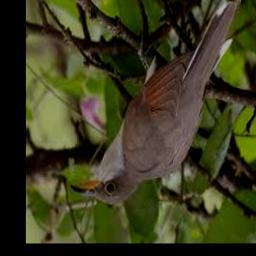Cuckoo: (70, 0, 241, 205)
